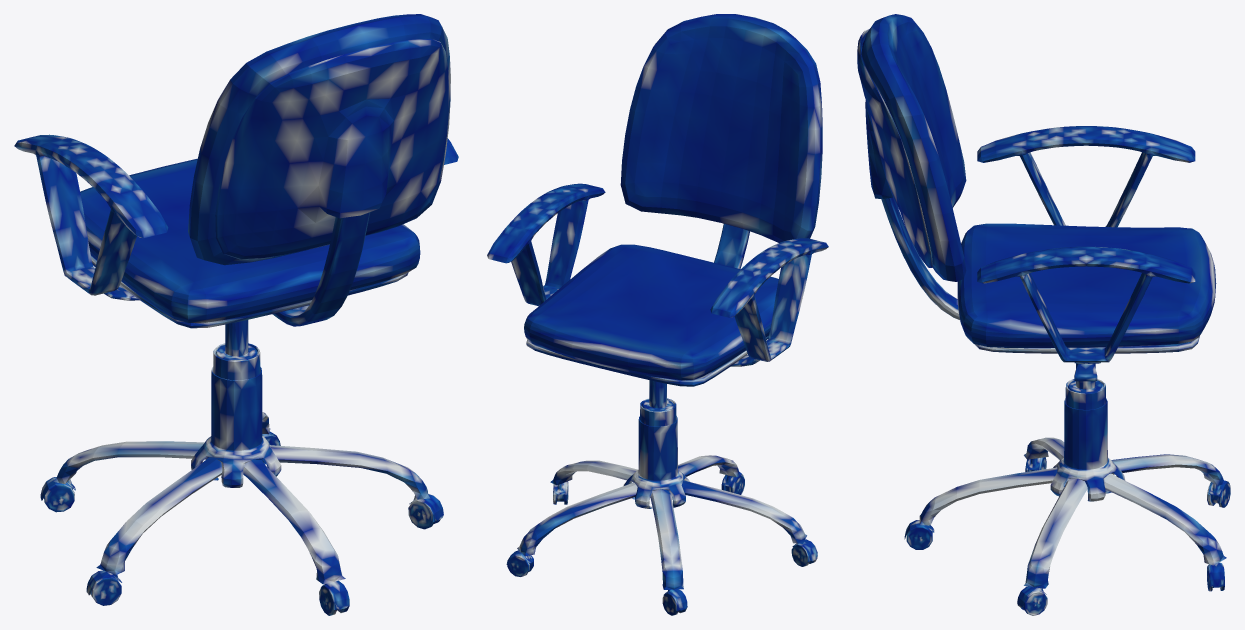
File: chair5_final300.obj
3 views of the same model, side by side, from view 1: azimuth 30°, elevation 25°; view 2: azimuth 150°, elevation 25°; view 3: azimuth 270°, elevation 25° (orthographic). The views are drawn at different scales.
Bounding box in the file's own units: 0.7978 × 1.33 × 0.8717.
